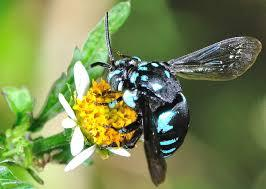Thyreus: (80, 4, 256, 177)
